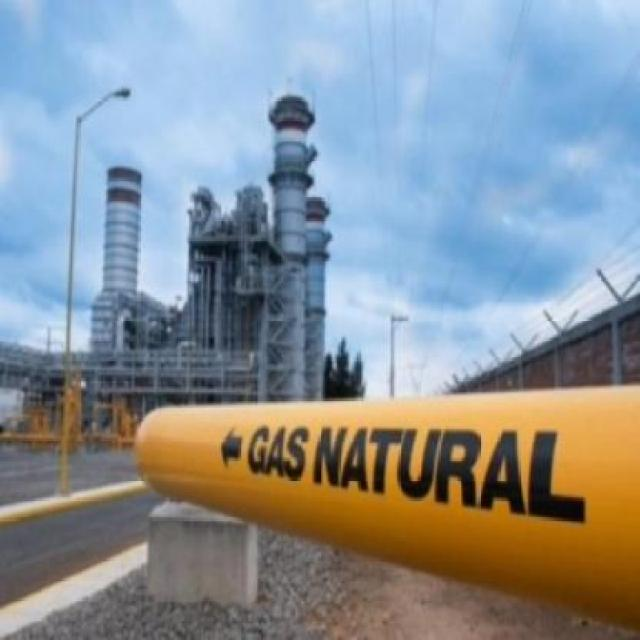gas: (135, 386, 640, 629), (0, 480, 151, 528)
